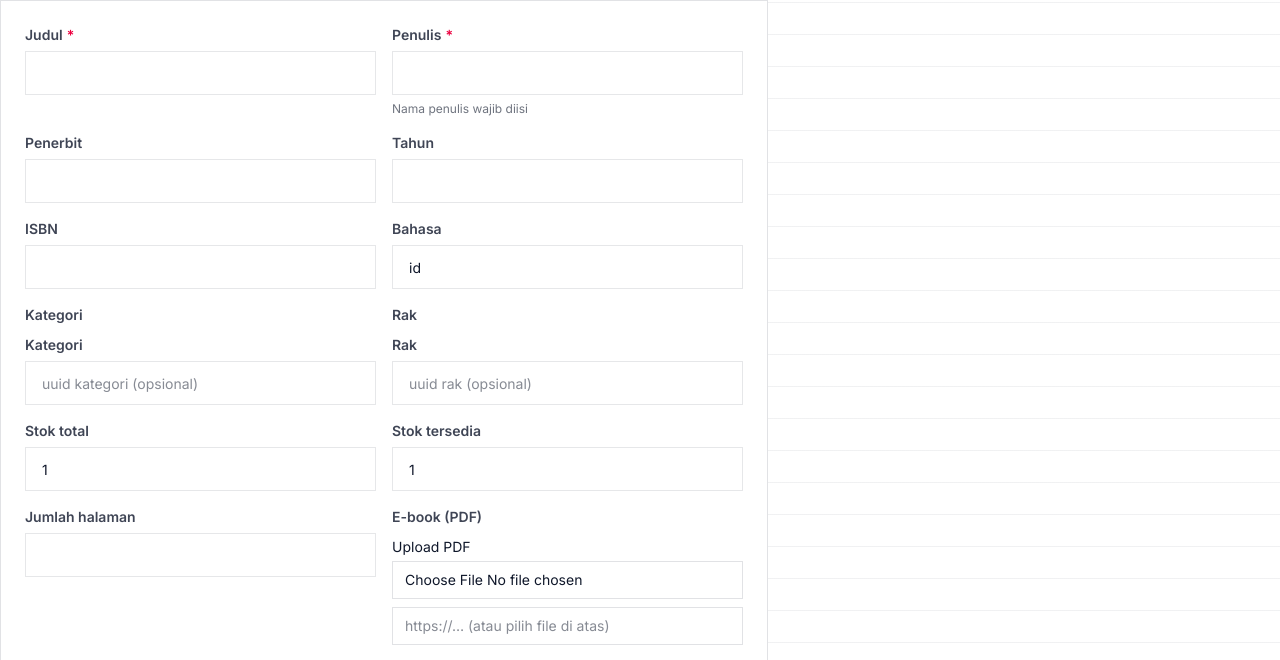
Test: BookForm interactions › server error surfaces via errMsg
In the field with id "book-title": (200, 73) [25,51,376,95], type "Judul"
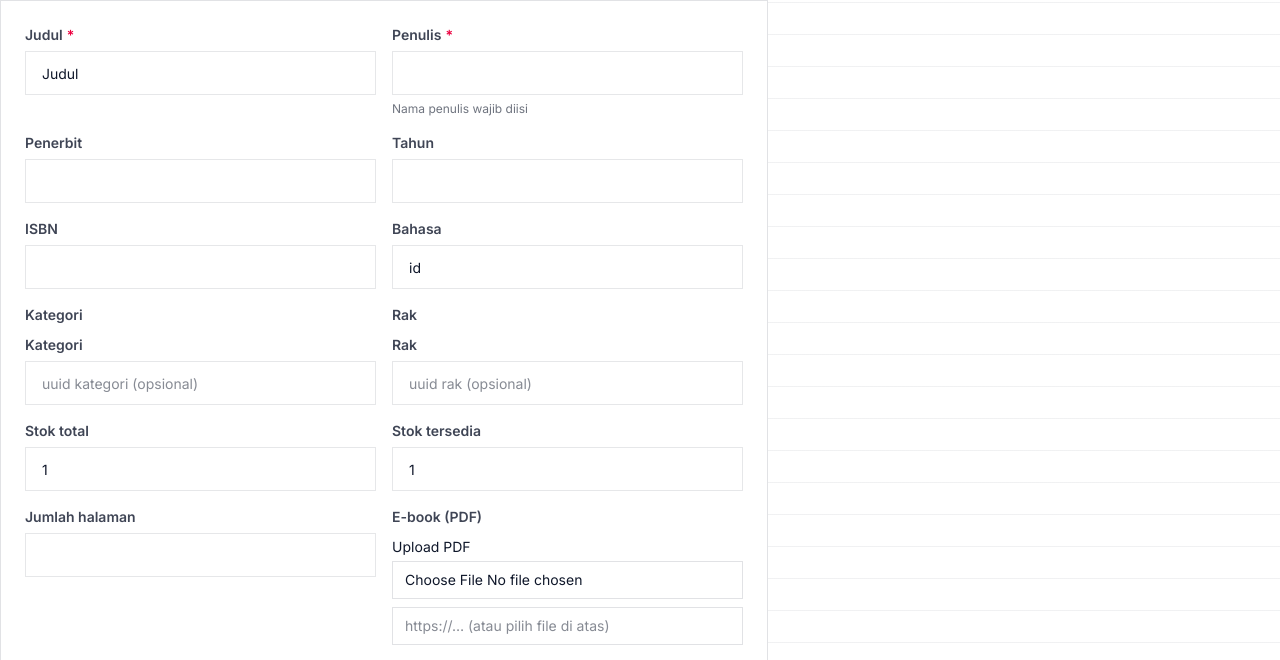
In the field with id "book-author": (568, 73) [392,51,743,95], type "Penulis"
(page scrolled)
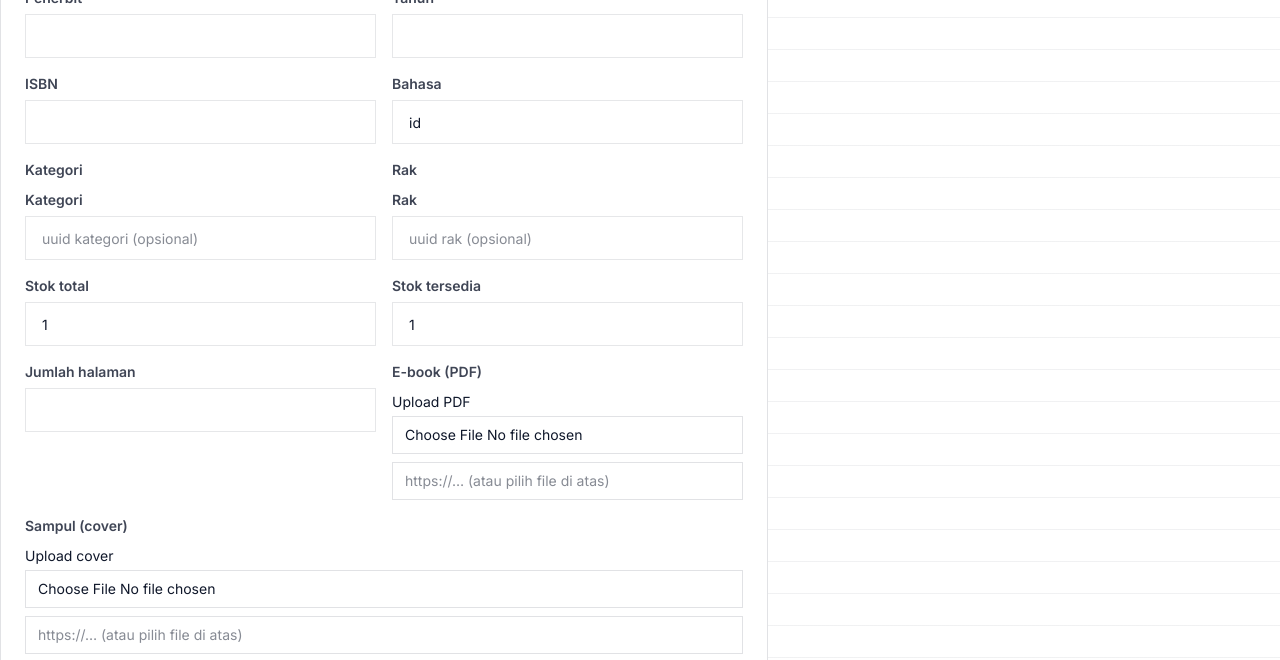
Submit the form
(page scrolled)
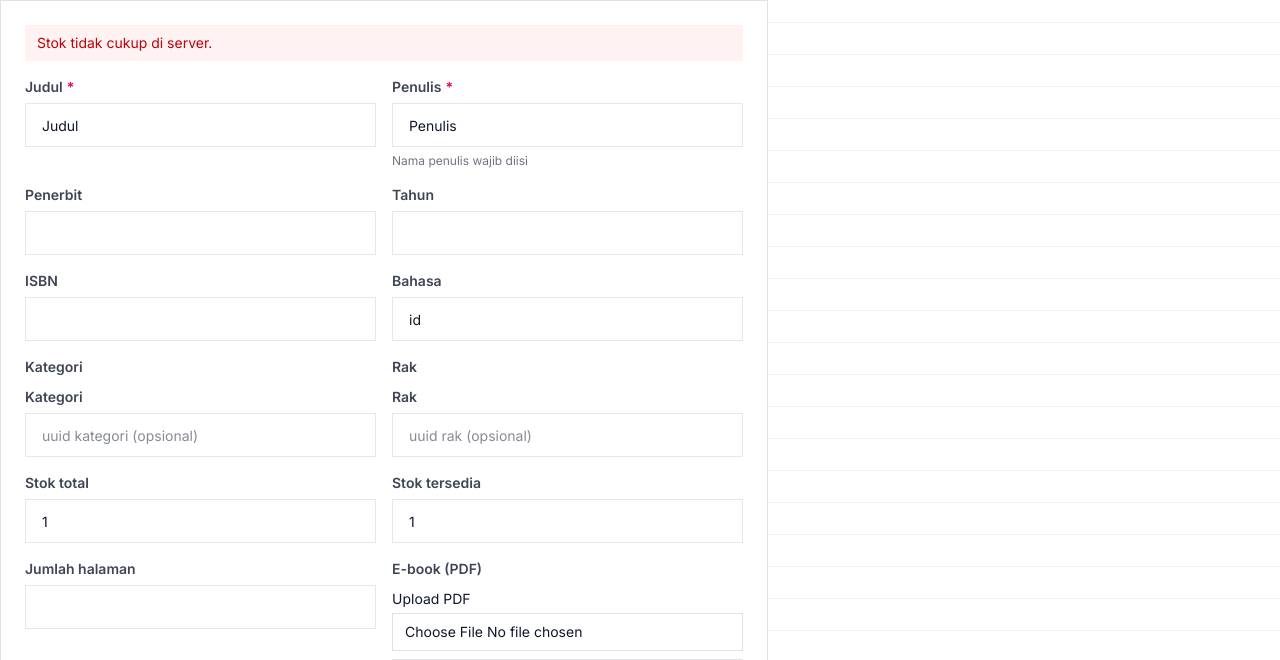
Expected: the text "Stok tidak cukup di server." is shown, [25,25,743,61]
